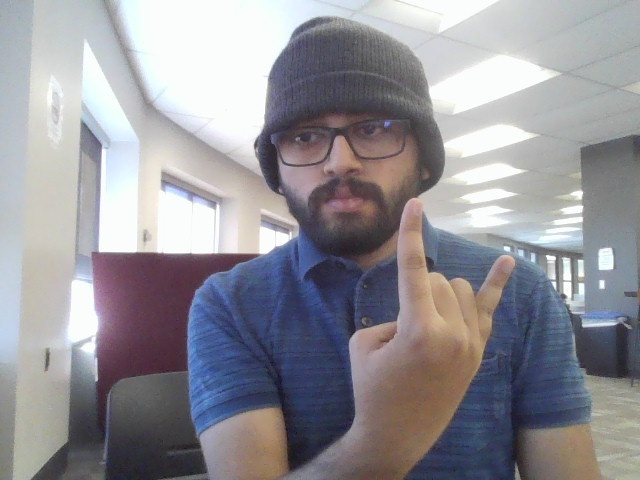help: (334, 187, 523, 467)
